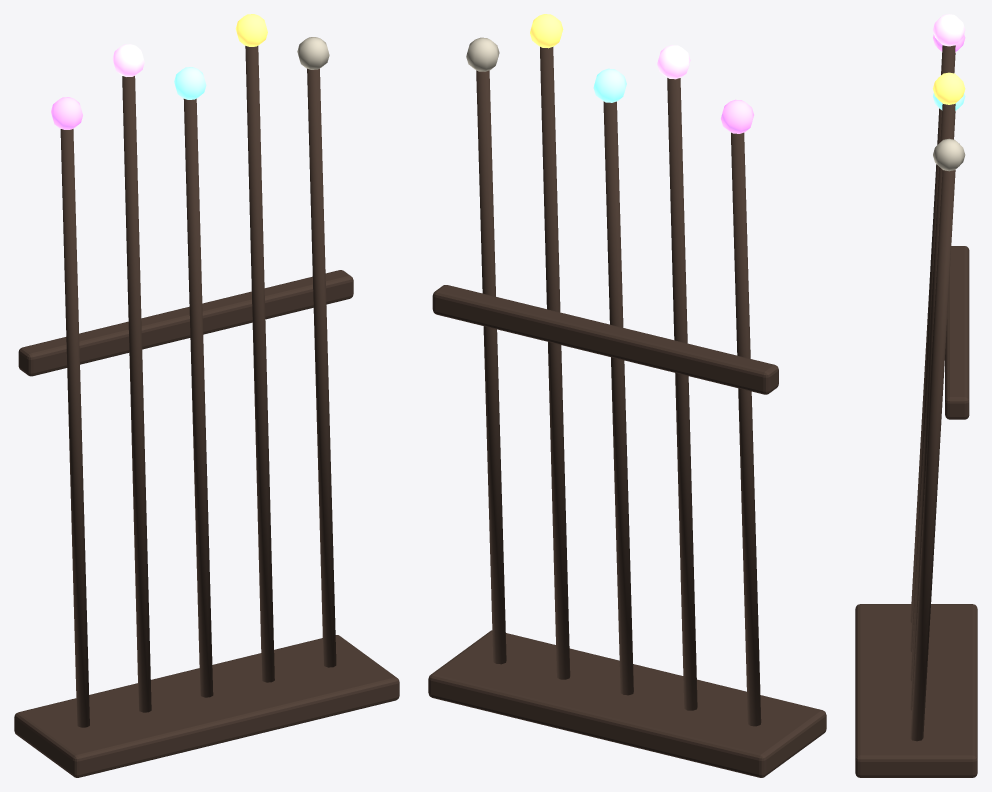
File: rack_staff_stand.glb
3 renders of one model, left to right at view 1: azimuth 30°, elevation 25°; view 2: azimuth 150°, elevation 25°; view 3: azimuth 270°, elevation 25°, orthographic. The views are drawn at different scales.
Parts seen in each view (by area): view 1: GD_rack_staff_stand__m0, GD_rack_staff_stand__m1, GD_rack_staff_stand__m3, GD_rack_staff_stand__m4, GD_rack_staff_stand__m2, GD_rack_staff_stand__m5; view 2: GD_rack_staff_stand__m0, GD_rack_staff_stand__m1, GD_rack_staff_stand__m4, GD_rack_staff_stand__m3, GD_rack_staff_stand__m5, GD_rack_staff_stand__m2; view 3: GD_rack_staff_stand__m0, GD_rack_staff_stand__m3, GD_rack_staff_stand__m5, GD_rack_staff_stand__m1.
Boxes of the visible parts, bbox=[...] form: GD_rack_staff_stand__m0: bbox=[14, 46, 399, 777]; GD_rack_staff_stand__m1: bbox=[297, 37, 329, 69]; GD_rack_staff_stand__m3: bbox=[112, 44, 144, 76]; GD_rack_staff_stand__m4: bbox=[174, 67, 206, 99]; GD_rack_staff_stand__m2: bbox=[51, 97, 82, 129]; GD_rack_staff_stand__m5: bbox=[235, 14, 267, 46]; GD_rack_staff_stand__m0: bbox=[428, 47, 826, 777]; GD_rack_staff_stand__m1: bbox=[466, 37, 499, 71]; GD_rack_staff_stand__m4: bbox=[593, 68, 626, 102]; GD_rack_staff_stand__m3: bbox=[657, 45, 690, 79]; GD_rack_staff_stand__m5: bbox=[530, 14, 563, 48]; GD_rack_staff_stand__m2: bbox=[721, 99, 753, 133]; GD_rack_staff_stand__m0: bbox=[855, 45, 977, 777]; GD_rack_staff_stand__m3: bbox=[933, 14, 965, 46]; GD_rack_staff_stand__m5: bbox=[933, 72, 965, 104]; GD_rack_staff_stand__m1: bbox=[933, 138, 965, 171].
Size of the model in its own units: 0.9 by 1.78 by 0.3.
